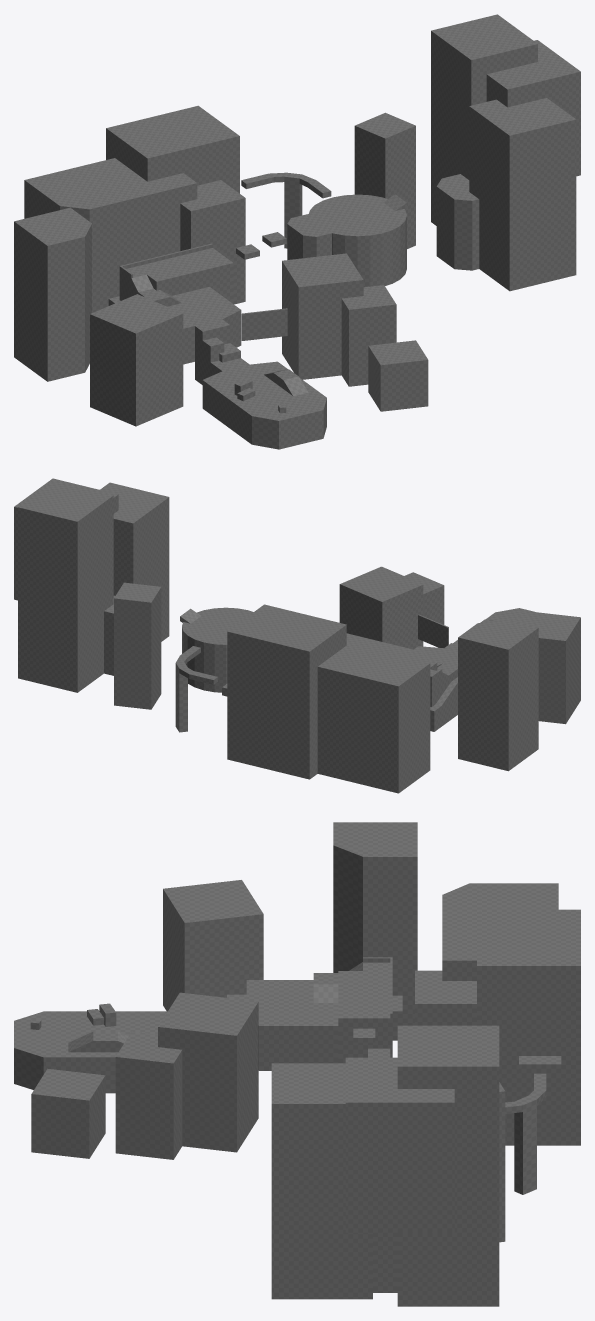
File: level1.obj
The picture shows the model from 3 angles, top to bottom: view 1: azimuth 30°, elevation 25°; view 2: azimuth 150°, elevation 25°; view 3: azimuth 270°, elevation 25°; orthographic projection. The views are drawn at different scales.
Visible parts, largest first — view 1: entity0_brush36, entity0_brush41, entity0_brush40, entity0_brush12, entity0_brush38, entity0_brush19, entity0_brush9, entity0_brush21, entity0_brush42, entity0_brush20, entity0_brush39, entity0_brush10 (+14 smaller); view 2: entity0_brush38, entity0_brush41, entity0_brush19, entity0_brush40, entity0_brush36, entity0_brush42, entity0_brush9, entity0_brush12, entity0_brush21, entity0_brush11, entity0_brush32, entity0_brush39 (+4 smaller); view 3: entity0_brush38, entity0_brush36, entity0_brush19, entity0_brush39, entity0_brush40, entity0_brush9, entity0_brush12, entity0_brush10, entity0_brush5, entity0_brush11, entity0_brush41, entity0_brush25 (+11 smaller).
Part boxes in pixels (bbox=[...]): entity0_brush36: bbox=[469, 98, 576, 291]; entity0_brush41: bbox=[24, 158, 197, 312]; entity0_brush40: bbox=[14, 207, 91, 381]; entity0_brush12: bbox=[90, 294, 183, 426]; entity0_brush38: bbox=[431, 14, 537, 225]; entity0_brush19: bbox=[106, 105, 239, 193]; entity0_brush9: bbox=[282, 253, 363, 379]; entity0_brush21: bbox=[308, 194, 406, 287]; entity0_brush42: bbox=[354, 112, 415, 248]; entity0_brush20: bbox=[180, 180, 245, 304]; entity0_brush39: bbox=[486, 40, 580, 176]; entity0_brush10: bbox=[341, 285, 396, 386]; entity0_brush38: bbox=[18, 481, 113, 692]; entity0_brush41: bbox=[317, 633, 430, 793]; entity0_brush19: bbox=[227, 604, 346, 779]; entity0_brush40: bbox=[458, 619, 538, 771]; entity0_brush36: bbox=[100, 482, 169, 641]; entity0_brush42: bbox=[114, 582, 161, 709]; entity0_brush9: bbox=[339, 567, 423, 649]; entity0_brush12: bbox=[516, 610, 580, 724]; entity0_brush21: bbox=[182, 607, 253, 692]; entity0_brush11: bbox=[404, 572, 444, 624]; entity0_brush32: bbox=[175, 662, 187, 732]; entity0_brush39: bbox=[14, 478, 118, 600]; entity0_brush38: bbox=[397, 1025, 499, 1306]; entity0_brush36: bbox=[271, 1063, 372, 1299]; entity0_brush19: bbox=[477, 909, 580, 1145]; entity0_brush39: bbox=[345, 1057, 454, 1232]; entity0_brush40: bbox=[333, 822, 417, 1025]; entity0_brush9: bbox=[158, 992, 258, 1152]; entity0_brush12: bbox=[163, 880, 263, 1011]; entity0_brush10: bbox=[115, 1031, 182, 1159]; entity0_brush5: bbox=[246, 984, 338, 1070]; entity0_brush11: bbox=[31, 1068, 105, 1158]; entity0_brush41: bbox=[442, 883, 558, 980]; entity0_brush25: bbox=[14, 1042, 118, 1093].
Bounding box in the file's own units: 2520 × 864 × 1832.
